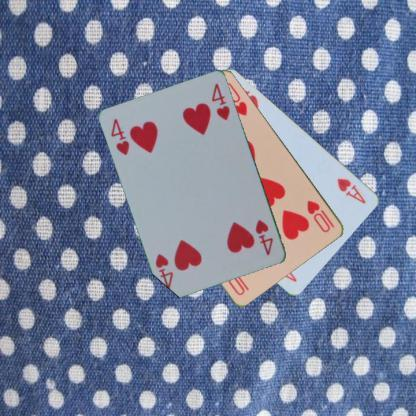10h: (304, 198, 332, 234)
4h: (253, 216, 275, 258), (109, 116, 131, 157)
Ah: (334, 176, 368, 206)
